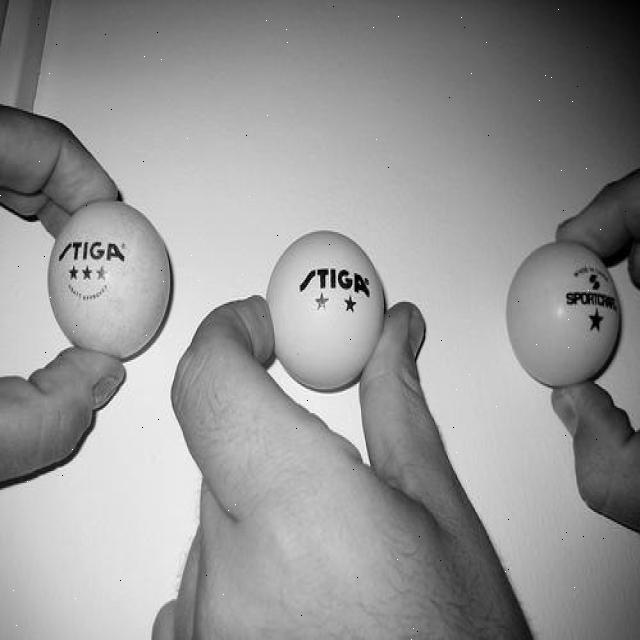ping-pong-ball: (46, 196, 175, 367), (264, 226, 388, 394), (502, 236, 625, 393)
